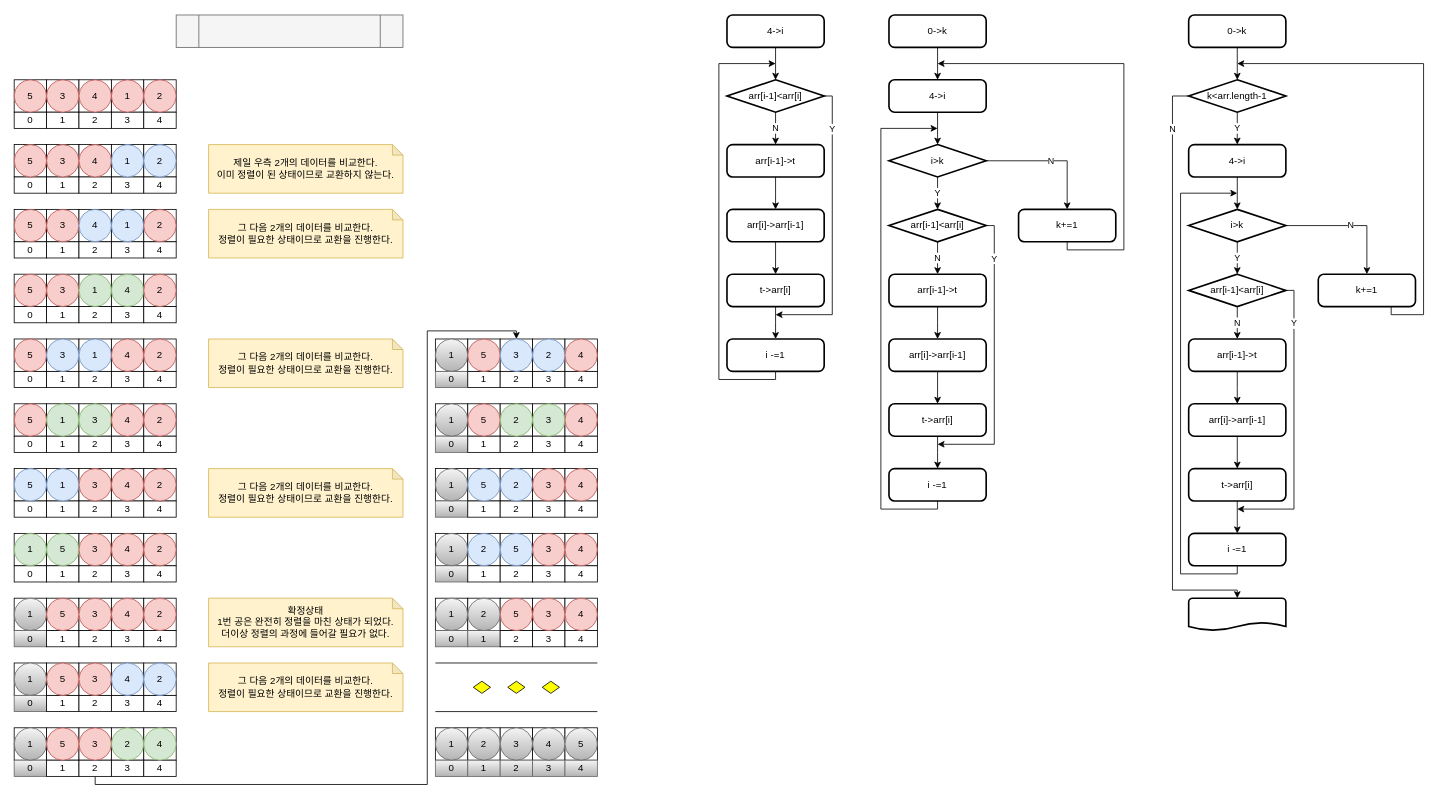
The diagram is 1444 pixels wide and 805 high, and some of its shapes have lost their labels. Each missing label, with the centre of its shape:
arr: the point at 1236,614
Bubble Sort: the point at 289,30
